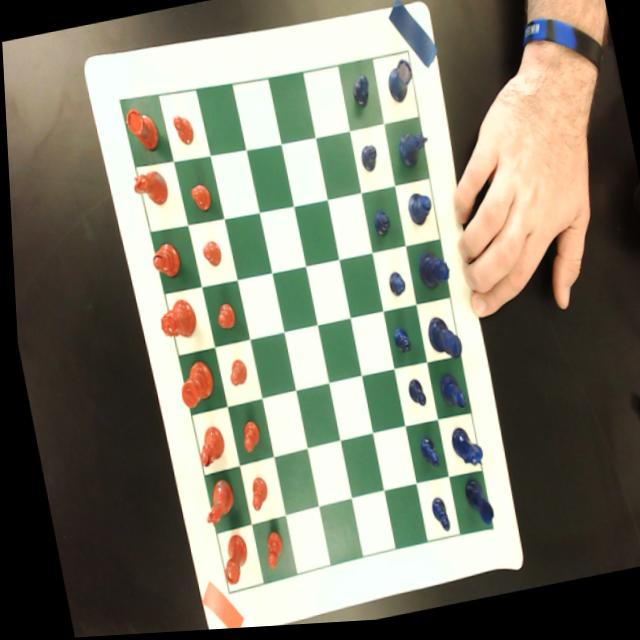B: (434, 375, 464, 419), (403, 195, 434, 234)
K: (422, 317, 460, 368)
N: (443, 428, 481, 478), (394, 133, 431, 175)
P: (424, 501, 448, 540), (412, 439, 437, 476), (347, 78, 371, 115), (402, 382, 424, 415), (357, 147, 380, 178), (388, 330, 410, 361), (370, 214, 391, 245), (384, 275, 405, 304)
Q: (413, 253, 450, 298)
R: (458, 482, 492, 534), (382, 62, 416, 110)
b: (190, 426, 223, 470), (147, 243, 180, 283)
k: (172, 360, 214, 413)
n: (192, 478, 236, 533), (128, 171, 169, 212)
p: (252, 528, 284, 575), (242, 479, 267, 517), (235, 421, 259, 458), (187, 183, 212, 217), (171, 114, 194, 150), (210, 304, 235, 335), (198, 241, 221, 272), (222, 361, 245, 391)
q: (153, 300, 196, 345)
r: (211, 535, 248, 591), (123, 106, 161, 159)
